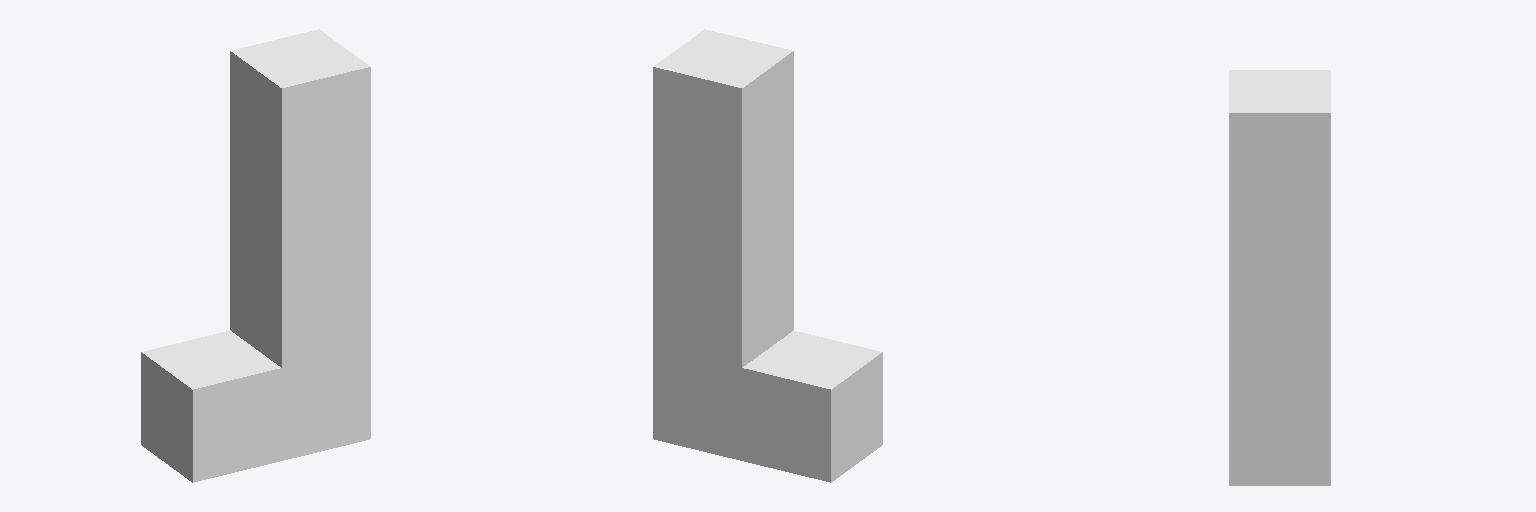
Rendered from bunker2_0.obj.
3 views of the same model, side by side, from view 1: azimuth 30°, elevation 25°; view 2: azimuth 150°, elevation 25°; view 3: azimuth 270°, elevation 25° (orthographic).
Parts seen in each view (by area): view 1: bunker2_0; view 2: bunker2_0; view 3: bunker2_0.
Part boxes in pixels (left/top/right/bottom): bunker2_0: left=141, top=29, right=370, bottom=482; bunker2_0: left=653, top=29, right=882, bottom=482; bunker2_0: left=1229, top=70, right=1330, bottom=485.
Size of the model in its own units: 2 by 4 by 1.